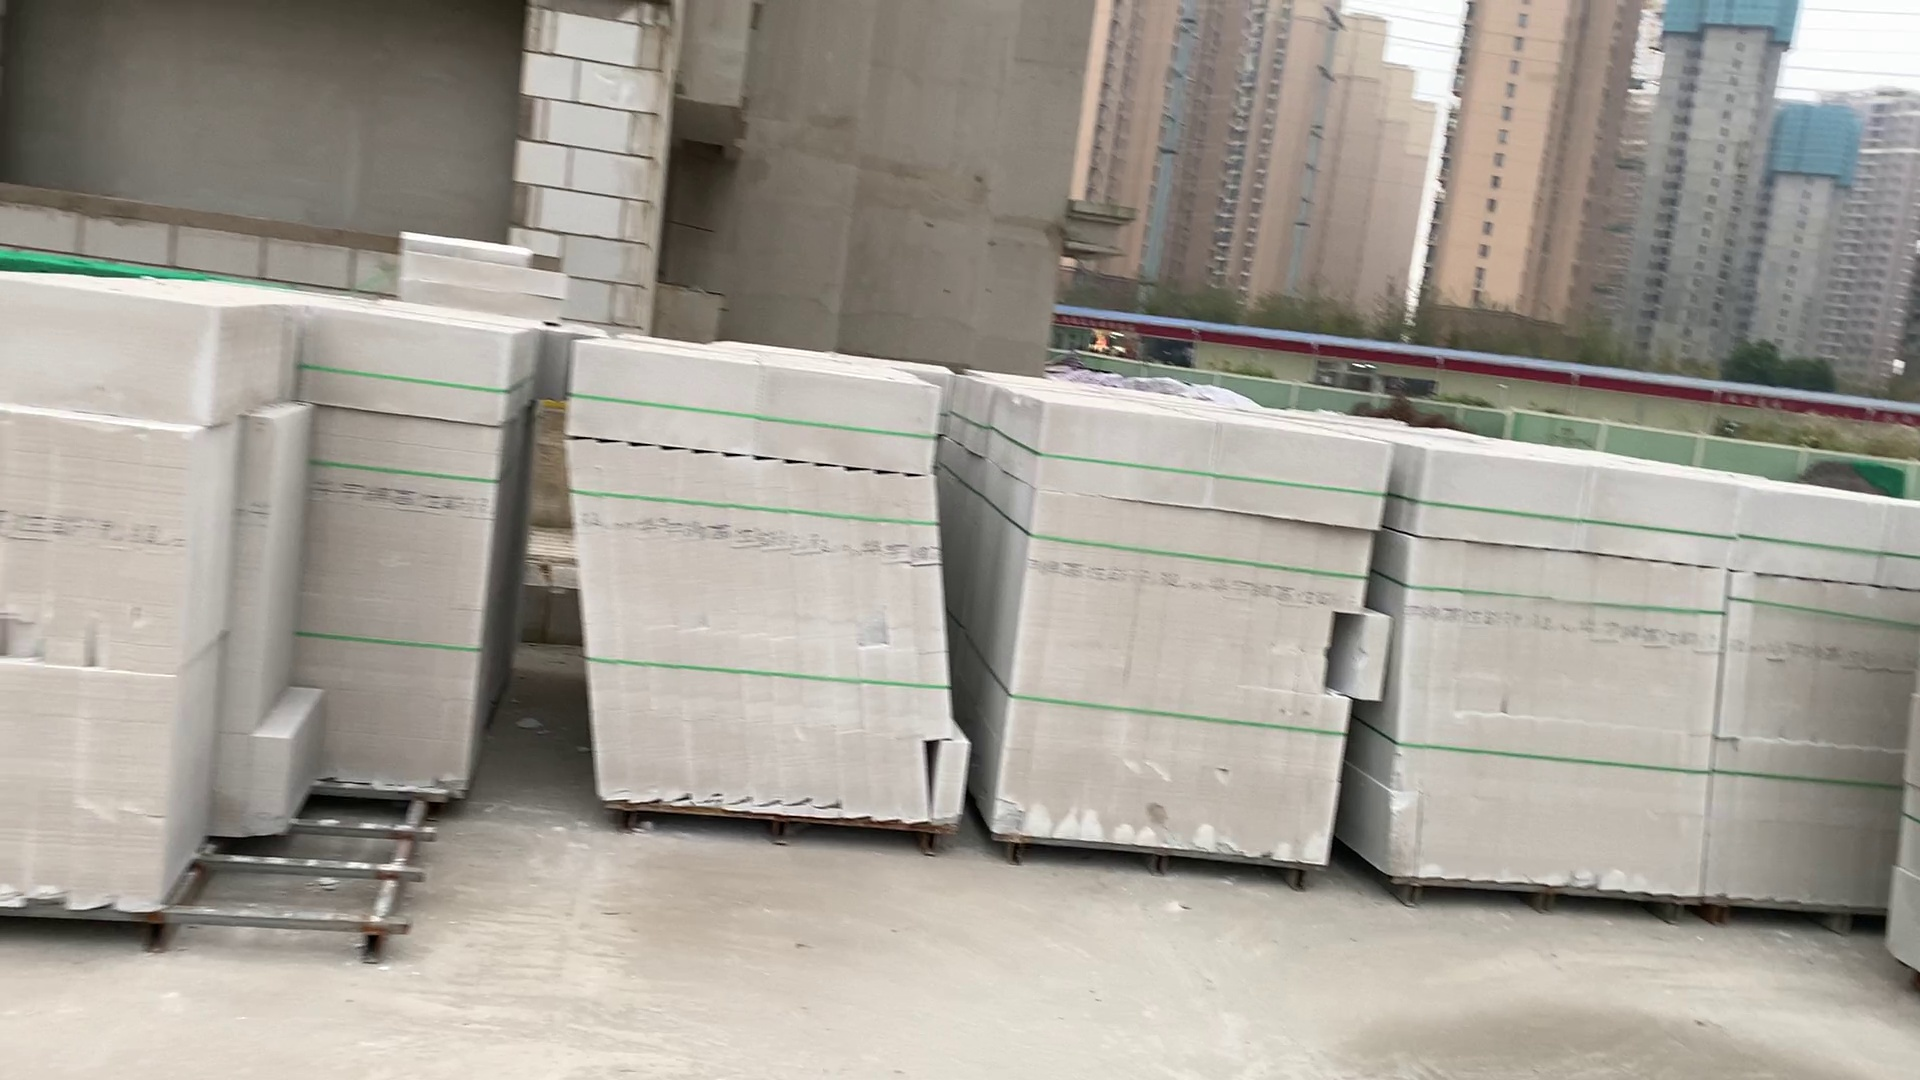brickwork: (3, 266, 502, 945), (562, 338, 963, 829), (1002, 393, 1365, 873), (1408, 443, 1716, 919), (1726, 468, 1915, 945)
